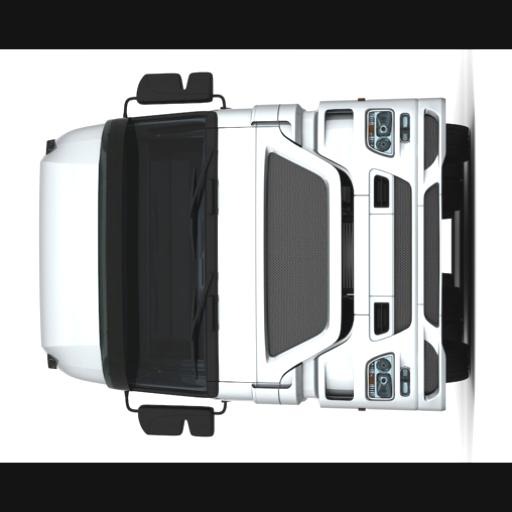truck: (40, 72, 474, 434)
